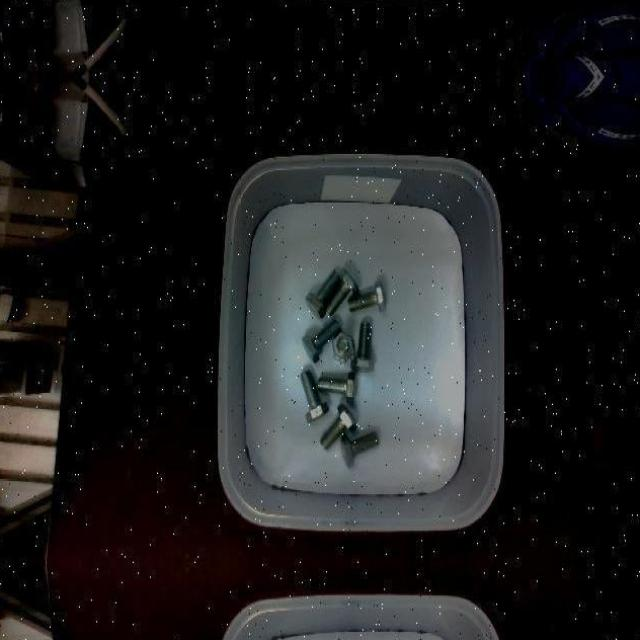screw: (324, 267, 359, 316), (319, 403, 355, 450), (305, 270, 340, 318), (302, 319, 340, 362), (298, 370, 328, 422), (340, 430, 379, 467), (316, 373, 356, 405), (347, 280, 386, 312), (351, 322, 375, 372), (331, 330, 354, 361)
